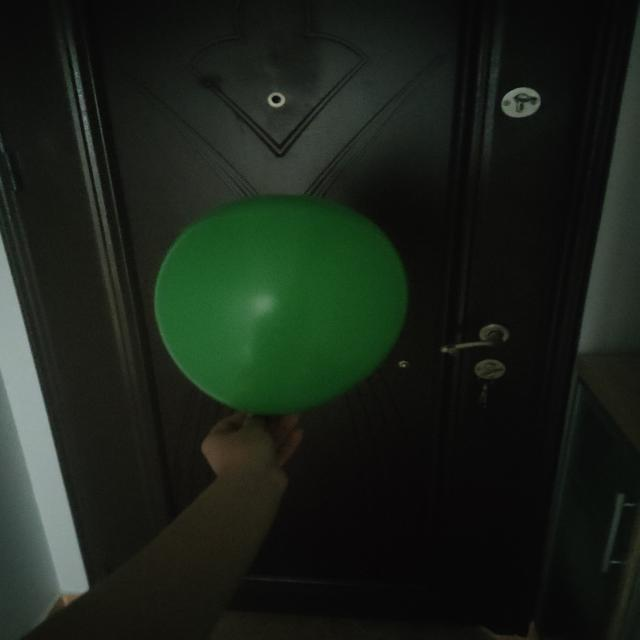green: (157, 195, 410, 416)
